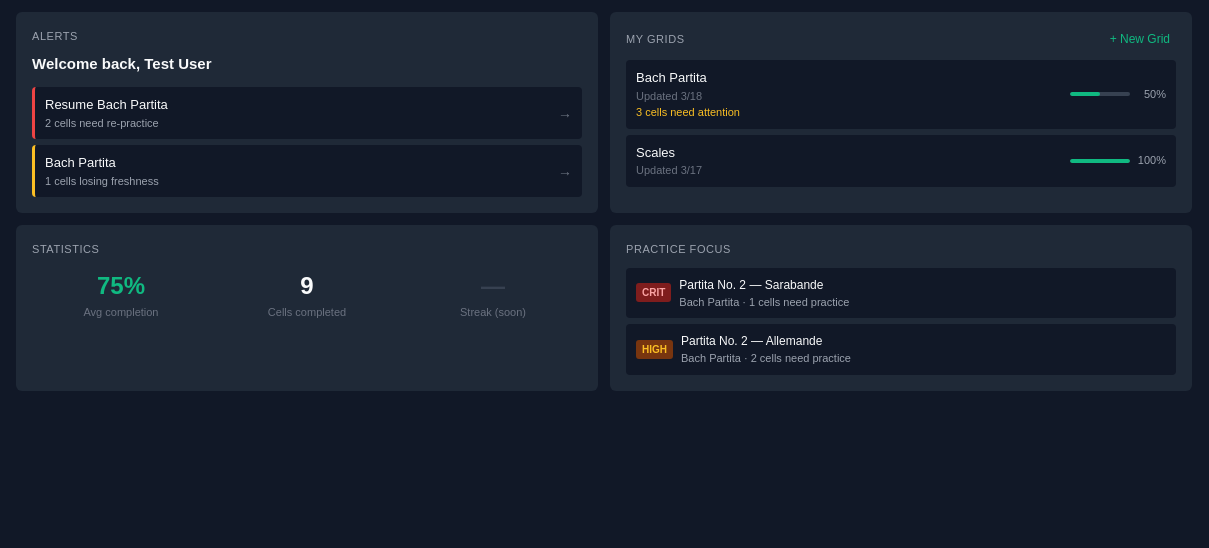
Test: DashboardDirector › shows form error when grid creation fails
Check: the text "ALERTS" is shown, box [32,30,78,42]
// Click "+ New Grid" to show form
Click the button "+ New Grid".
click(1140, 39)  # box [1104,28,1176,50]
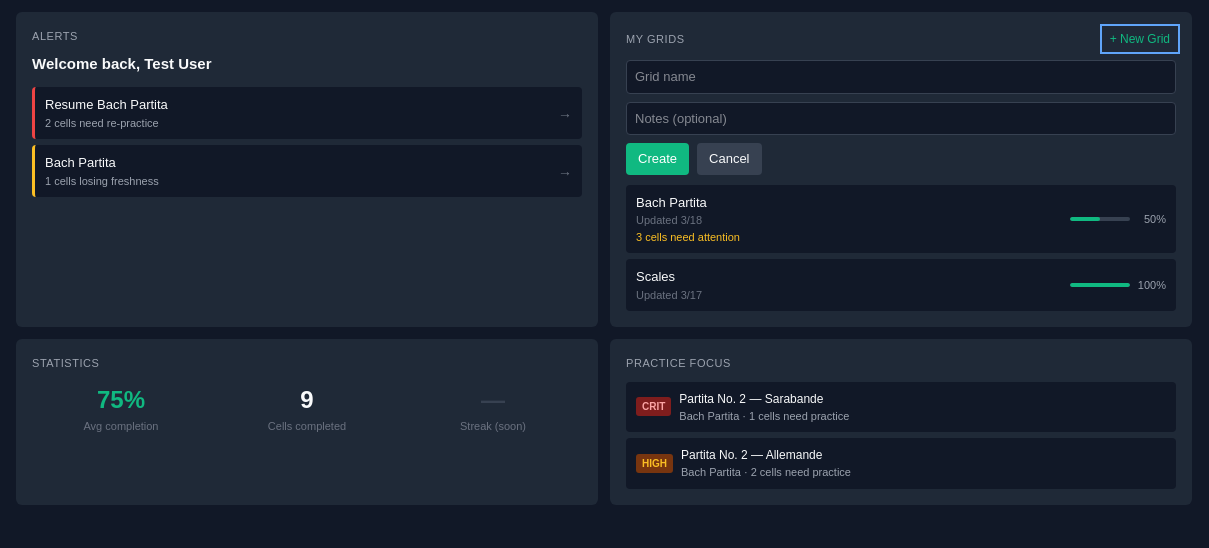
Type "Bad Grid" into the field with placeholder "Grid name".
click(901, 77); type("Bad Grid")  # box [626,60,1176,94]
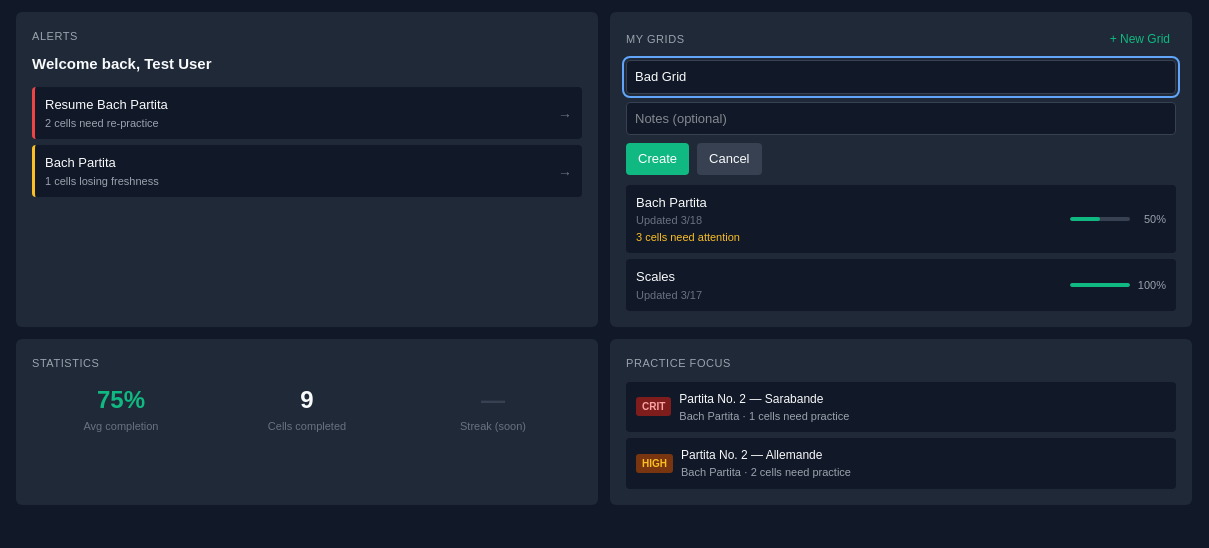
Click the button "Create".
click(658, 159)  # box [626,143,689,174]
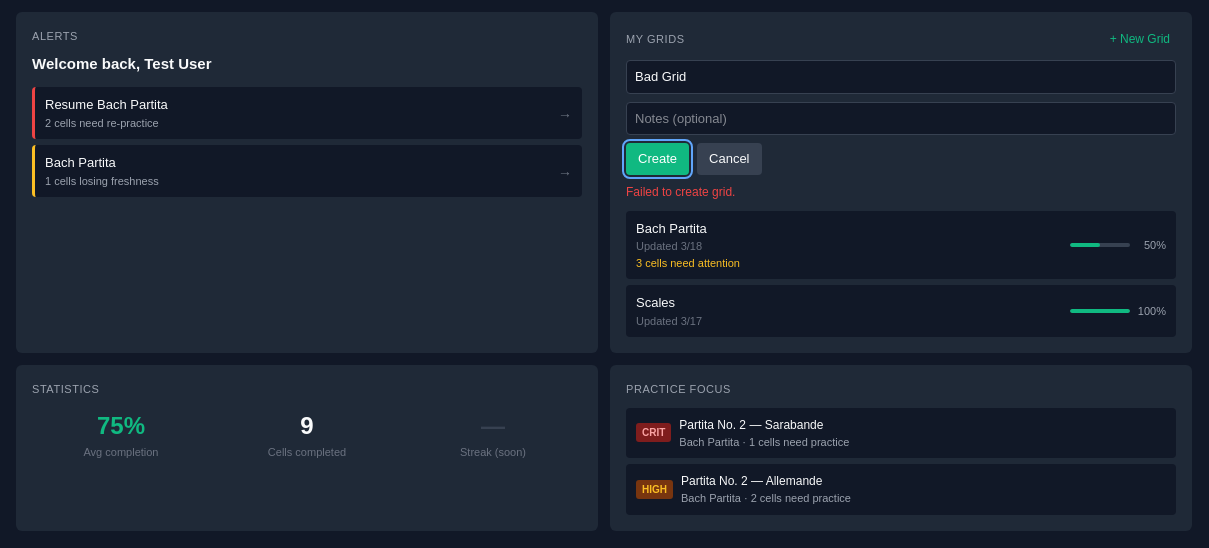
Check: the text "Failed to create grid." is shown, box [626,184,735,198]
